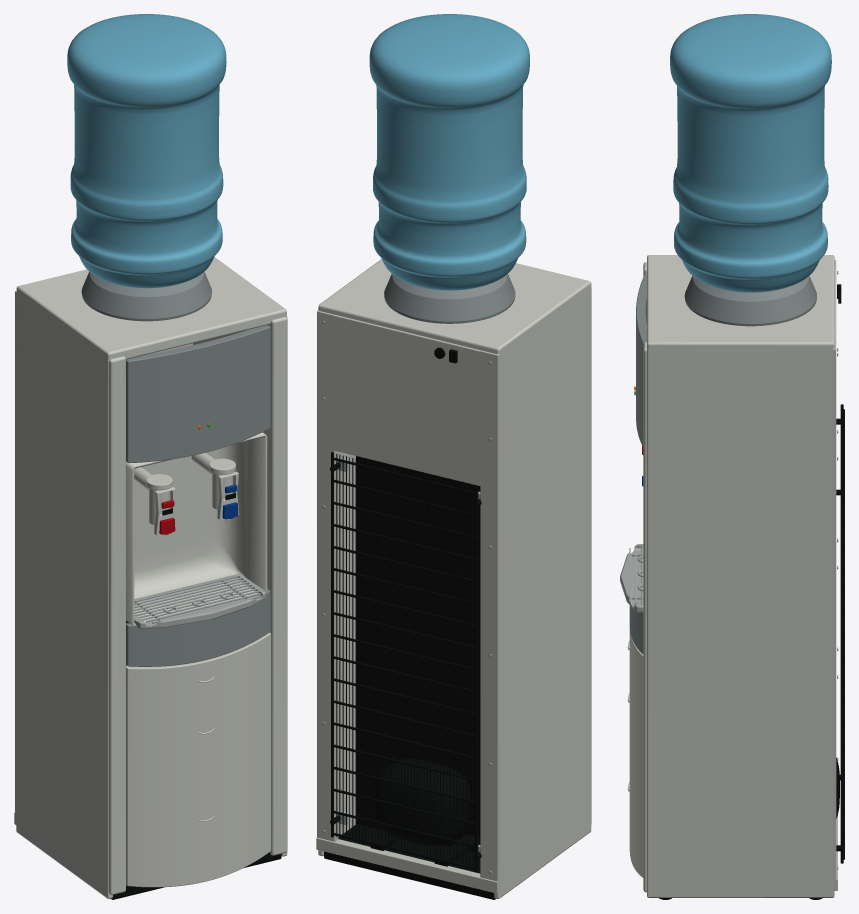
Rendered from dispenser_white_v1.glb.
The picture shows the model from 3 angles, left to right: view 1: azimuth 30°, elevation 25°; view 2: azimuth 150°, elevation 25°; view 3: azimuth 270°, elevation 25°; orthographic projection.
Visible parts, largest first — view 1: Cabinet side panel__asset__asset__asset__asset, Inverted water bottle__asset__asset__asset__asset, Lower cabinet door__asset__asset__asset__asset, Continuous dispensing cavity liner__asset__asset__asset__ass, Upper silver control fascia__asset__asset__asset__asset, Top deck__asset__asset__asset__asset, Full height front side stile.001__asset__asset__asset__asset, Full height front side stile__asset__asset__asset__asset, Drip tray front apron__asset__asset__asset__asset, Bottle support collar__asset__asset__asset__asset, Removable drip tray bowl__asset__asset__asset__asset, Rear chassis rail__asset__asset__asset__asset; view 2: Cabinet side panel__asset__asset__asset__asset, Inverted water bottle__asset__asset__asset__asset, Machinery compartment dark inner wall__asset__asset__asset__, Rear upper equipment cover__asset__asset__asset__asset, Rear chassis rail__asset__asset__asset__asset, Top deck__asset__asset__asset__asset, Rear chassis rail.001__asset__asset__asset__asset, Simplified compressor__asset__asset__asset__asset, Cabinet side panel.001__asset__asset__asset__asset, Bottle support collar__asset__asset__asset__asset, Rear lower cross member__asset__asset__asset__asset, Bottom structural pan__asset__asset__asset__asset (+28 smaller); view 3: Cabinet side panel.001__asset__asset__asset__asset, Inverted water bottle__asset__asset__asset__asset, Top deck__asset__asset__asset__asset, Bottle support collar__asset__asset__asset__asset, Lower cabinet door__asset__asset__asset__asset, Rear chassis rail.001__asset__asset__asset__asset, Full height front side stile.001__asset__asset__asset__asset, Condenser outer rail.001__asset__asset__asset__asset, Upper silver control fascia__asset__asset__asset__asset, Removable drip tray bowl__asset__asset__asset__asset, Drip tray front apron__asset__asset__asset__asset.
Part boxes in pixels (x1,y1,x2,y2): Cabinet side panel__asset__asset__asset__asset: (16, 294, 112, 898); Inverted water bottle__asset__asset__asset__asset: (67, 14, 226, 288); Lower cabinet door__asset__asset__asset__asset: (126, 632, 271, 887); Continuous dispensing cavity liner__asset__asset__asset__ass: (126, 432, 267, 624); Upper silver control fascia__asset__asset__asset__asset: (126, 325, 270, 463); Top deck__asset__asset__asset__asset: (16, 257, 286, 360); Full height front side stile.001__asset__asset__asset__asset: (263, 316, 287, 855); Full height front side stile__asset__asset__asset__asset: (109, 356, 125, 894); Drip tray front apron__asset__asset__asset__asset: (126, 589, 270, 666); Bottle support collar__asset__asset__asset__asset: (81, 271, 211, 321); Removable drip tray bowl__asset__asset__asset__asset: (134, 573, 265, 629); Rear chassis rail__asset__asset__asset__asset: (15, 291, 18, 822); Cabinet side panel__asset__asset__asset__asset: (494, 288, 591, 898); Inverted water bottle__asset__asset__asset__asset: (369, 14, 529, 290); Machinery compartment dark inner wall__asset__asset__asset__: (356, 456, 480, 852); Rear upper equipment cover__asset__asset__asset__asset: (317, 310, 501, 489); Rear chassis rail__asset__asset__asset__asset: (480, 350, 501, 889); Top deck__asset__asset__asset__asset: (318, 259, 591, 354); Rear chassis rail.001__asset__asset__asset__asset: (317, 311, 338, 841); Simplified compressor__asset__asset__asset__asset: (373, 758, 471, 846); Cabinet side panel.001__asset__asset__asset__asset: (318, 451, 355, 856); Bottle support collar__asset__asset__asset__asset: (384, 274, 515, 323); Rear lower cross member__asset__asset__asset__asset: (316, 837, 499, 893); Bottom structural pan__asset__asset__asset__asset: (324, 824, 495, 899); Cabinet side panel.001__asset__asset__asset__asset: (647, 349, 834, 897); Inverted water bottle__asset__asset__asset__asset: (670, 14, 831, 292); Top deck__asset__asset__asset__asset: (647, 255, 834, 350); Bottle support collar__asset__asset__asset__asset: (684, 275, 816, 326); Lower cabinet door__asset__asset__asset__asset: (629, 627, 643, 877); Rear chassis rail.001__asset__asset__asset__asset: (829, 340, 836, 888); Full height front side stile.001__asset__asset__asset__asset: (643, 342, 646, 892); Condenser outer rail.001__asset__asset__asset__asset: (840, 475, 843, 863); Upper silver control fascia__asset__asset__asset__asset: (636, 275, 646, 446); Removable drip tray bowl__asset__asset__asset__asset: (620, 544, 643, 612); Drip tray front apron__asset__asset__asset__asset: (629, 605, 643, 654).
Bounding box in the file's own units: 0.34 × 1.46 × 0.362.
